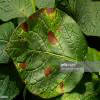Potato leaf early blight: (5, 7, 88, 98)
